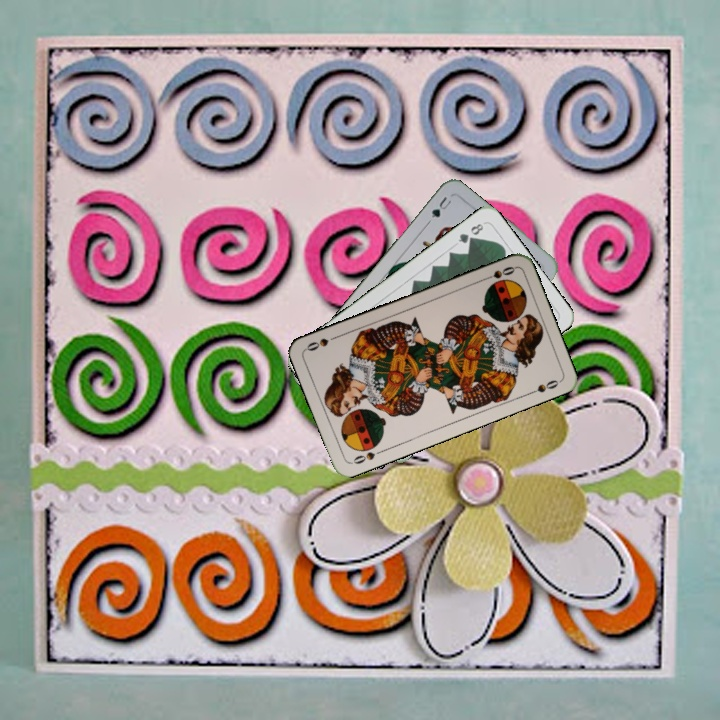G8: (454, 219, 486, 246)
GU: (427, 192, 454, 220)
SO: (478, 262, 518, 283), (347, 446, 386, 467)
